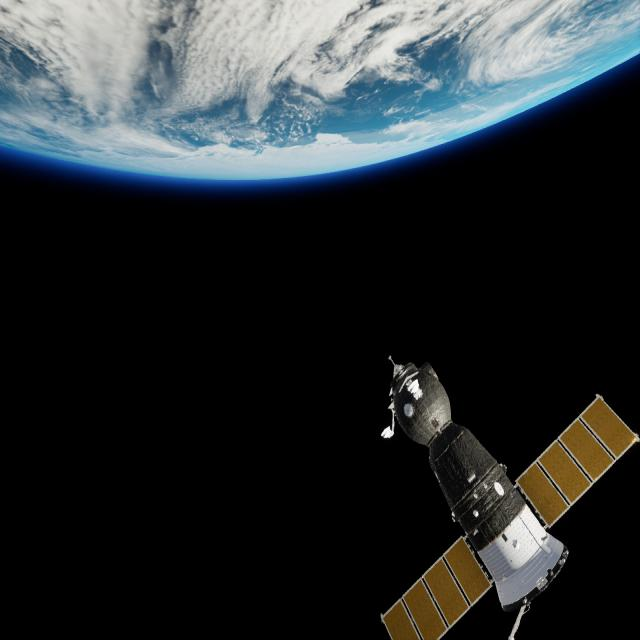Satellites revolving around earth: (378, 353, 638, 637)
